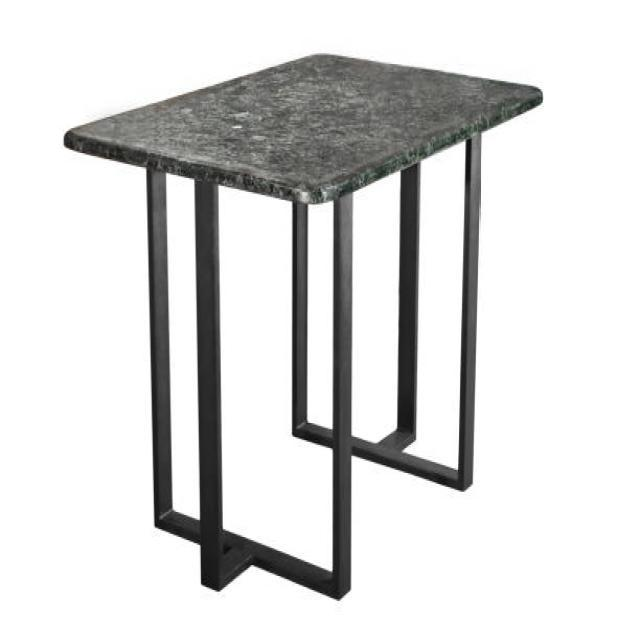table: (62, 50, 542, 600)
